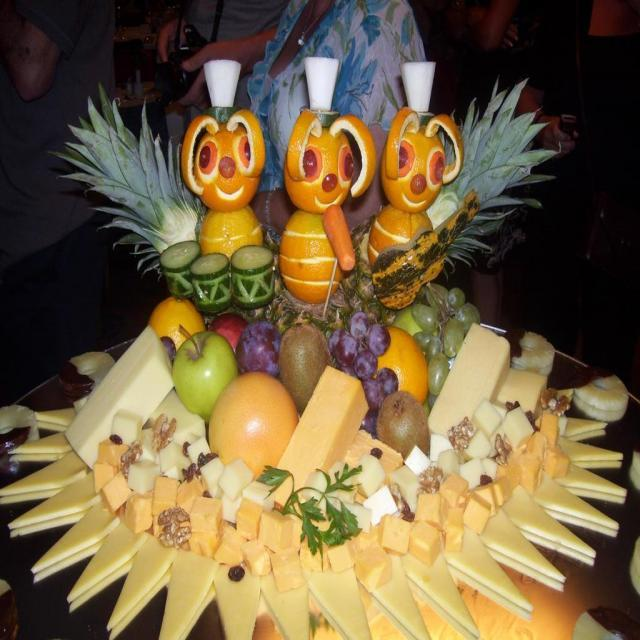Non_Gorille: (3, 0, 640, 637)
